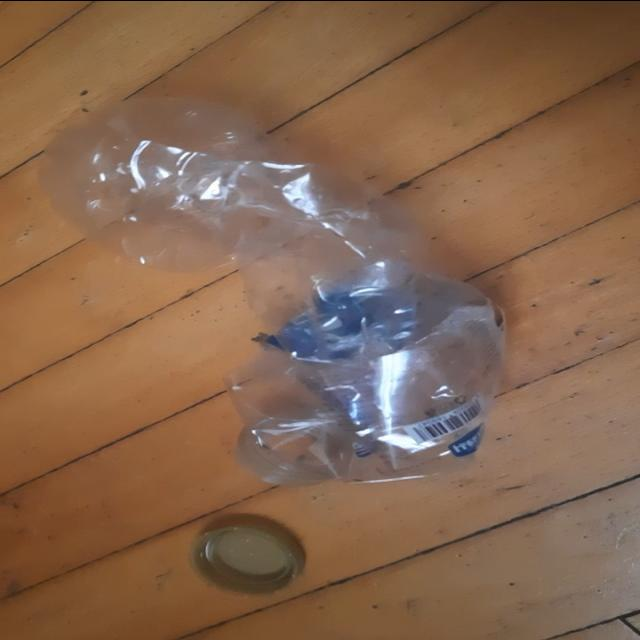Plastic: (36, 97, 506, 485)
